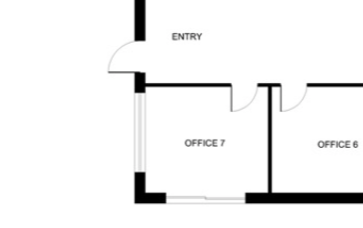door: (104, 39, 156, 75), (276, 79, 311, 117), (227, 79, 261, 114)
window: (130, 88, 152, 179)
